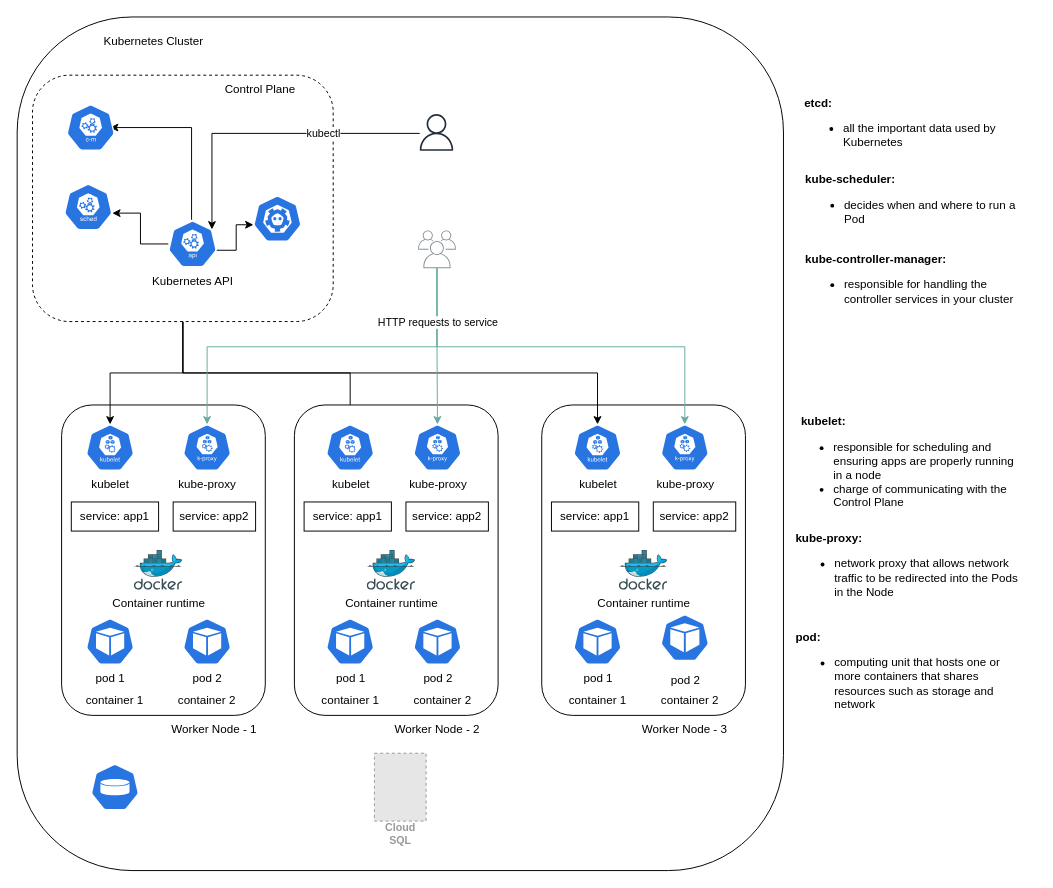
This 1053x888 diagram has some shape labels left out. Grey dashed boxes stand in for pictures. Here are the shapes that lost their labels. From the top down, the centre of each, then its label:
At (90,127): "controller manager".
At (436,131): "developer".
At (88,206): "scheduler".
At (277,218): "etcd".
At (436,249): "users".
At (114,786): "persistent volume".
